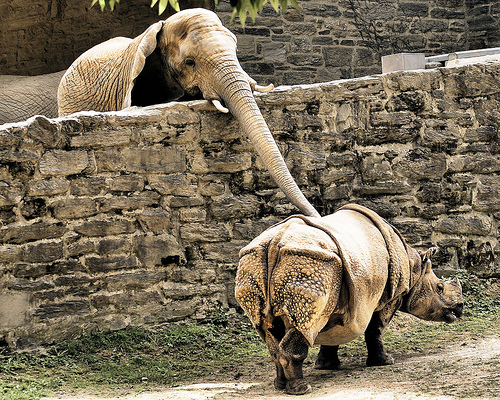elephant: (49, 4, 360, 234)
